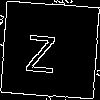Z: (25, 25, 57, 74)
